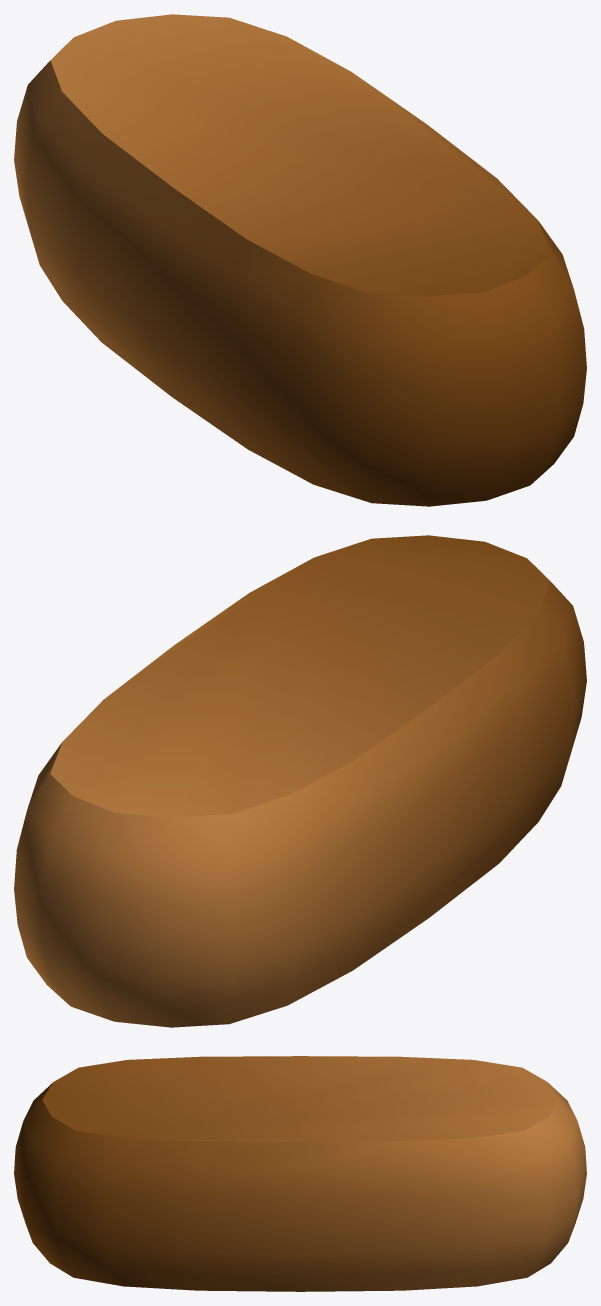
File: Bread_2 Tall.fbx
3 renders of one model, top to bottom at view 1: azimuth 30°, elevation 25°; view 2: azimuth 150°, elevation 25°; view 3: azimuth 270°, elevation 25°, orthographic. The views are drawn at different scales.
Parts seen in each view (by area): view 1: Bread_2 Tall; view 2: Bread_2 Tall; view 3: Bread_2 Tall.
Part boxes in pixels (x1,y1,x2,y2): Bread_2 Tall: [14, 14, 586, 506]; Bread_2 Tall: [14, 535, 586, 1027]; Bread_2 Tall: [14, 1056, 586, 1291].
Bounding box in the file's own units: 0.089 × 0.0601 × 0.2078.
1 material, 1 textured.
